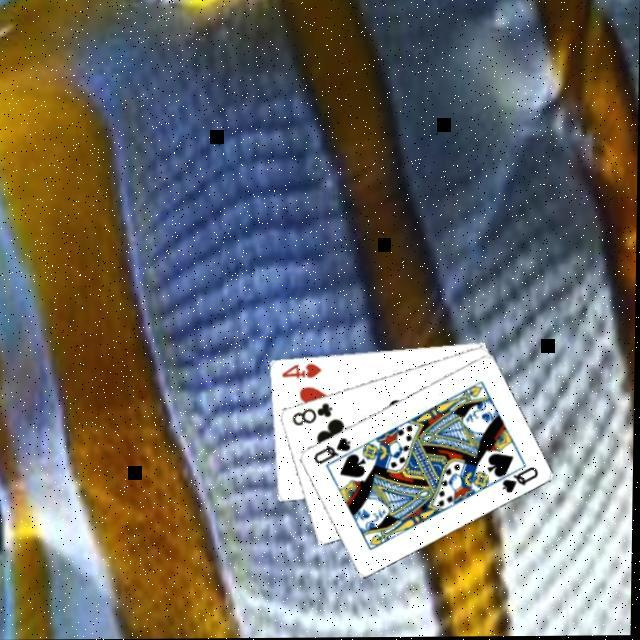4H: (278, 362, 323, 383)
8C: (289, 402, 335, 431)
QS: (311, 438, 353, 470), (499, 466, 541, 498)
